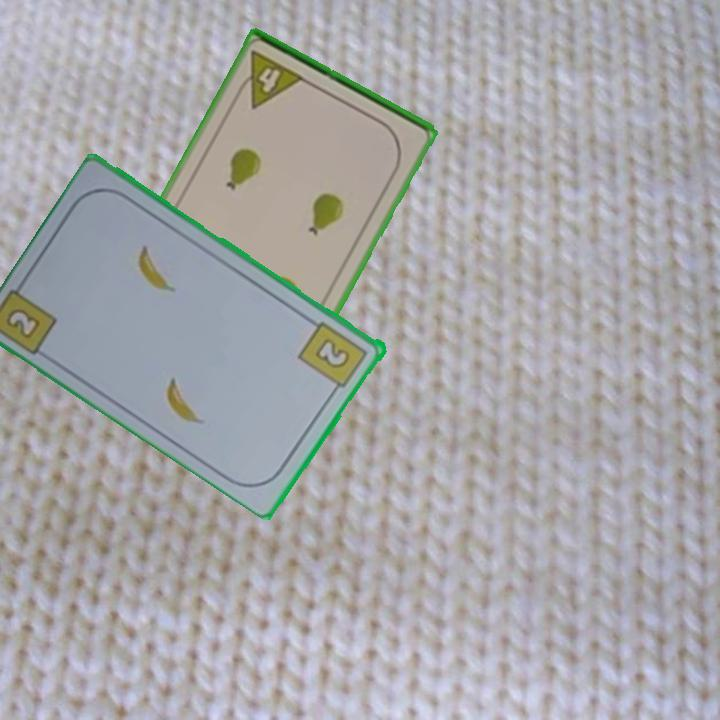2b: (295, 318, 371, 397), (2, 304, 44, 342)
4p: (231, 47, 308, 112)
